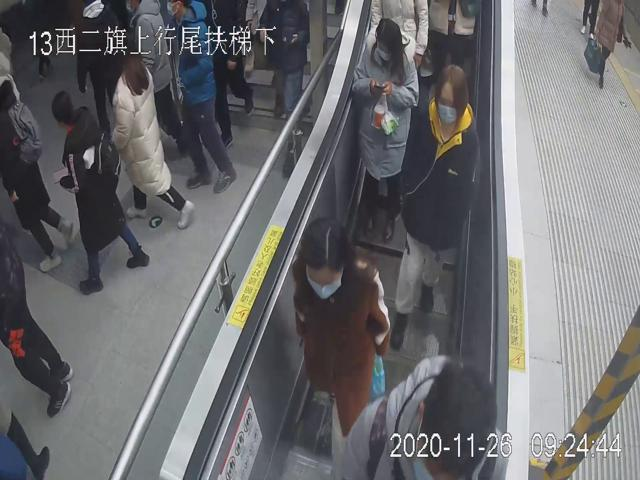person: (388, 60, 482, 351), (291, 214, 389, 478), (350, 19, 419, 241)
